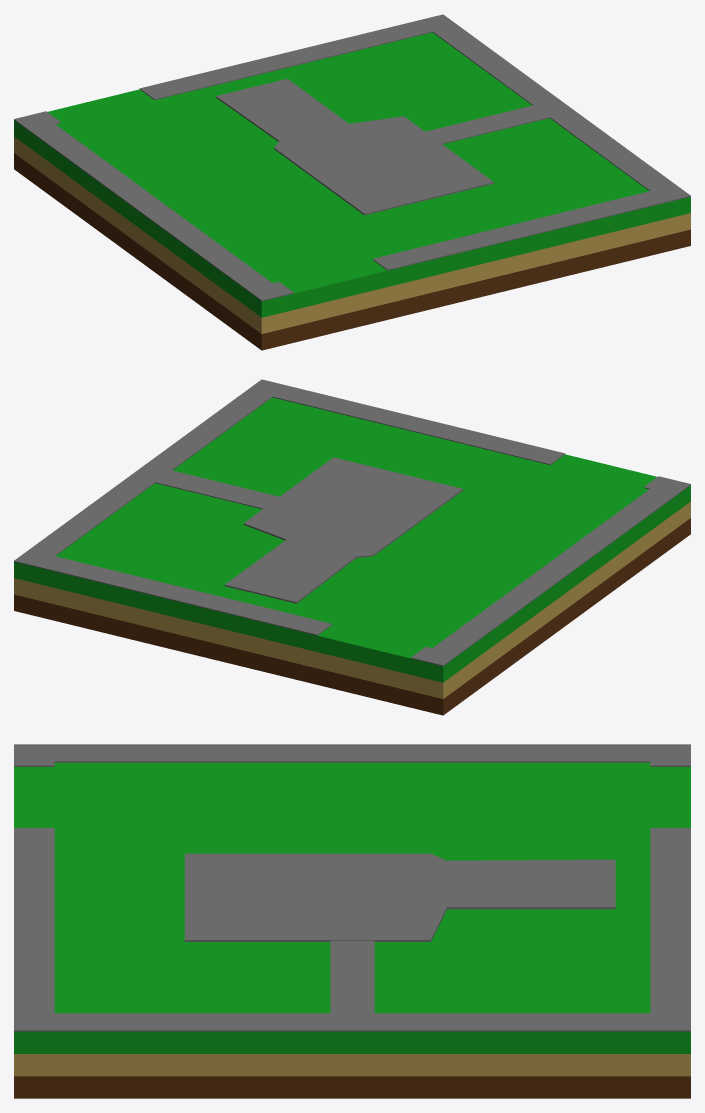
The model's file is UsaquenColisiones.glb.
3 views of the same model, one above another, from view 1: azimuth 30°, elevation 25°; view 2: azimuth 150°, elevation 25°; view 3: azimuth 270°, elevation 25° (orthographic). The views are drawn at different scales.
Visible parts, largest first — view 1: Plane.014, Plane.015, Cube.610; view 2: Plane.014, Plane.015, Cube.610; view 3: Plane.014, Plane.015, Cube.610.
Boxes of the visible parts, bbox=[...] form: Plane.014: bbox=[14, 32, 690, 350]; Plane.015: bbox=[14, 14, 690, 301]; Cube.610: bbox=[215, 78, 494, 215]; Plane.014: bbox=[14, 397, 690, 715]; Plane.015: bbox=[14, 379, 690, 666]; Cube.610: bbox=[224, 457, 463, 603]; Plane.014: bbox=[14, 762, 690, 1098]; Plane.015: bbox=[14, 744, 690, 1031]; Cube.610: bbox=[184, 853, 615, 941].
Size of what is drawn, in the model's own units: 33.35 by 3.77 by 33.35.
